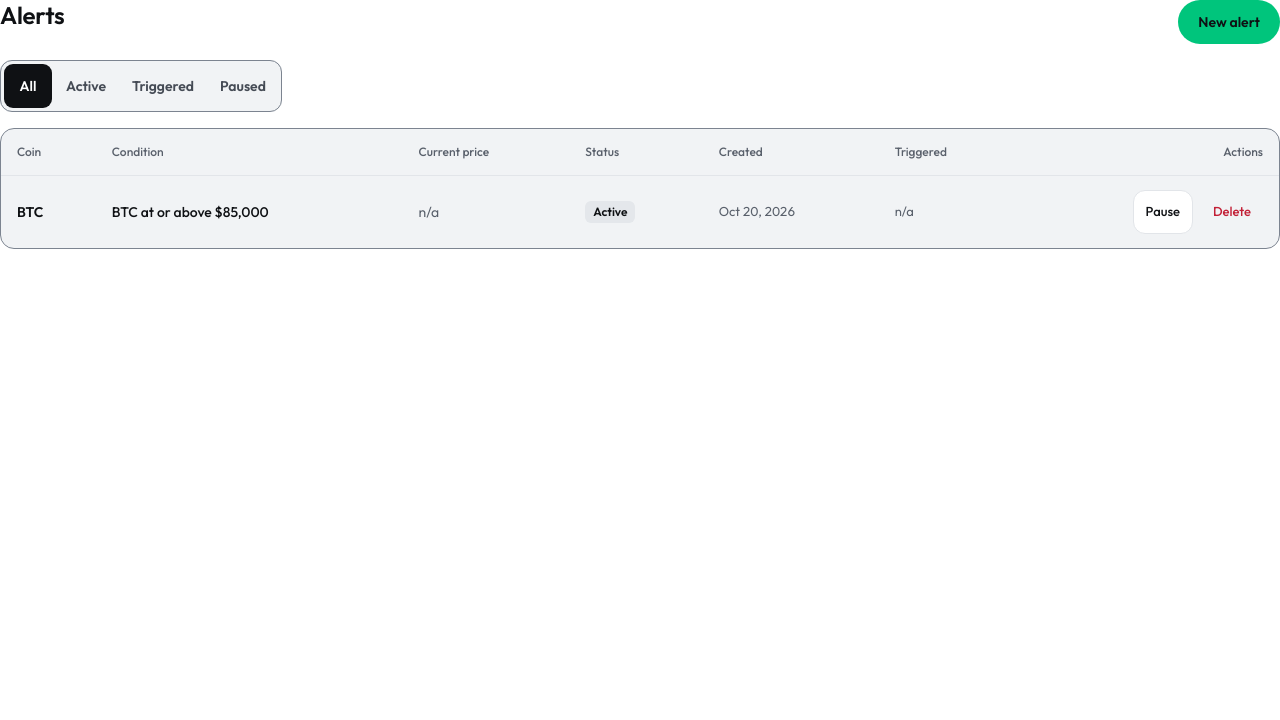
Scenario: AlertsScreen › opens AlertSheet when New alert button is clicked
This screenshot has width=1280, height=720.
Click the button "New alert": (1229,22) x1=1178 y1=0 x2=1279 y2=44
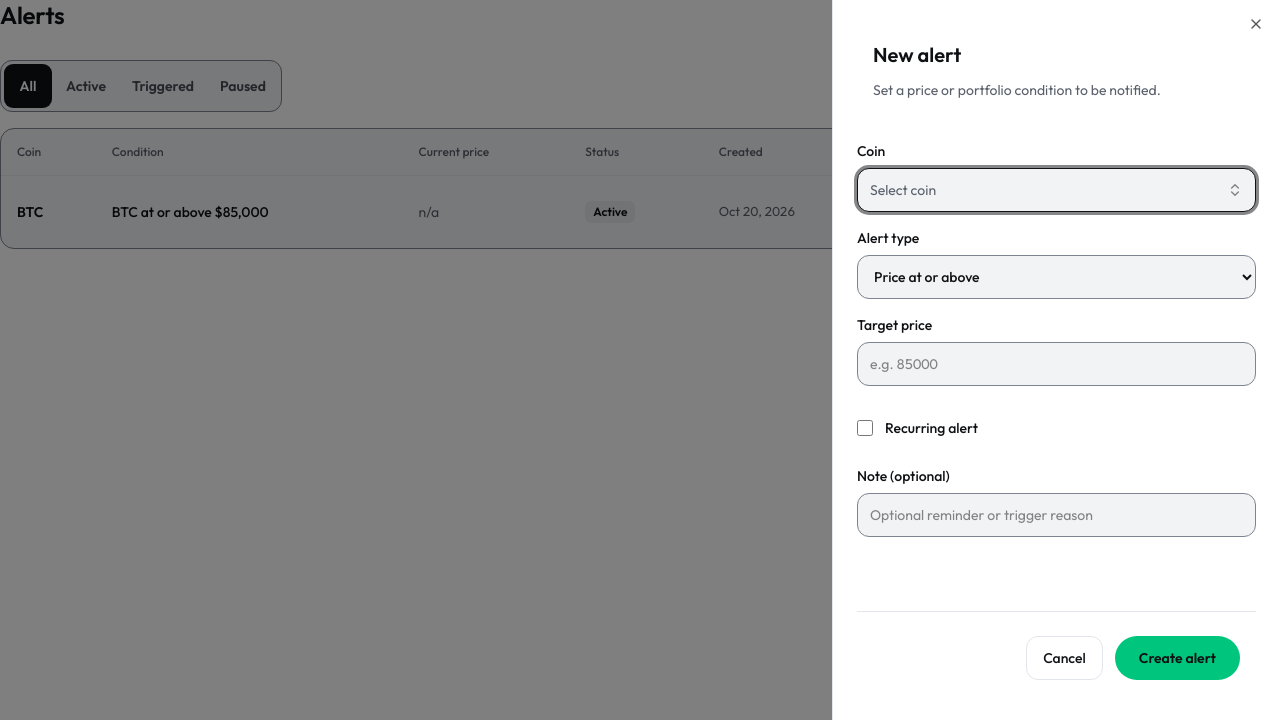
Check: the dialog is shown, box x1=832 y1=0 x2=1279 y2=719
Check: the heading "New alert" is shown, box x1=873 y1=42 x2=961 y2=67
